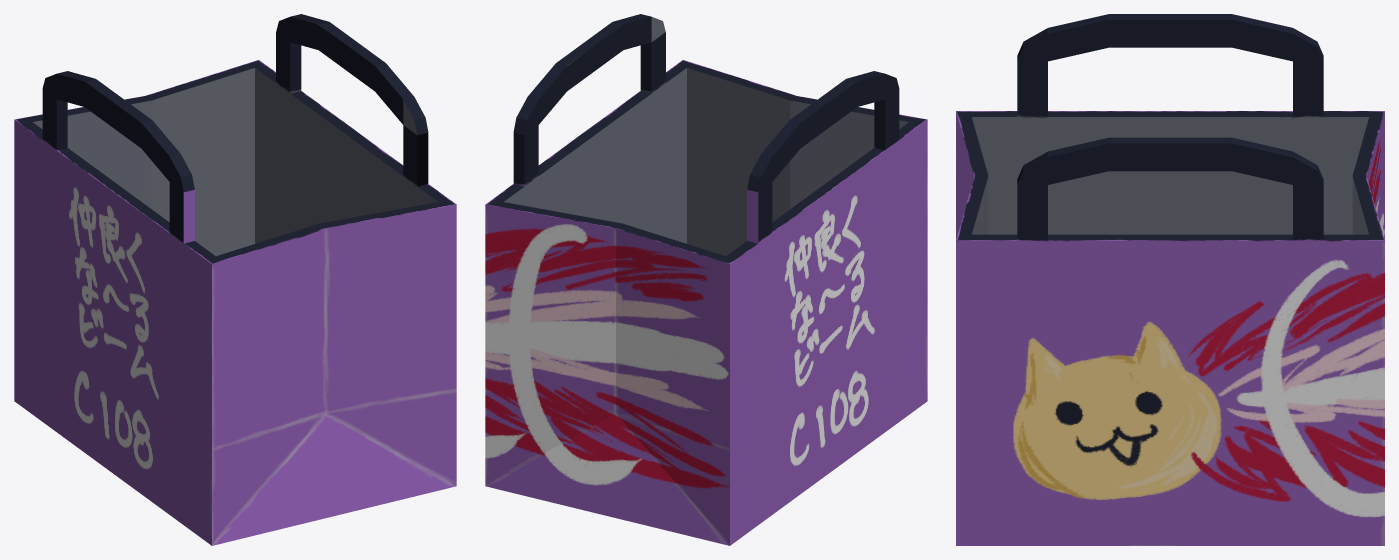
The model's file is bag.glb.
The picture shows the model from 3 angles, left to right: view 1: azimuth 30°, elevation 25°; view 2: azimuth 150°, elevation 25°; view 3: azimuth 270°, elevation 25°; orthographic projection. The views are drawn at different scales.
Visible parts, largest first — view 1: Cube; view 2: Cube; view 3: Cube.
Boxes of the visible parts, x1,y1,x2,y2 form: Cube: [14, 14, 456, 545]; Cube: [485, 14, 927, 545]; Cube: [956, 14, 1384, 545].
Bounding box in the file's own units: 0.5 × 0.725 × 0.7.
Materials: 1 (1 with a texture image).
